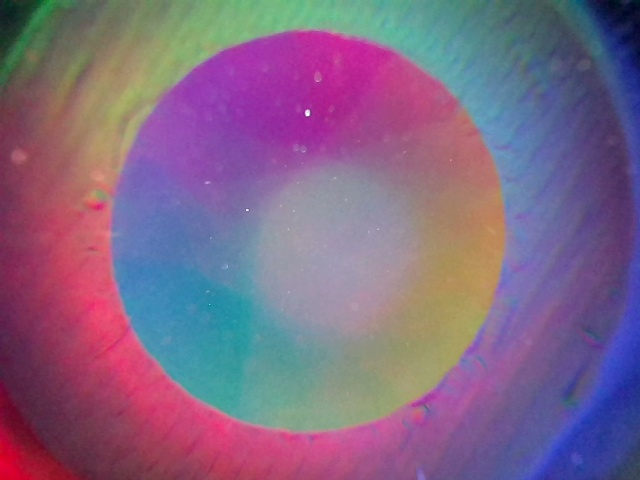contact: (115, 32, 503, 427)
